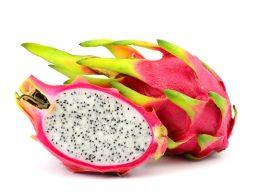dragon-fruit: (15, 74, 163, 173)
